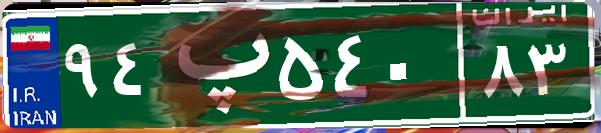0: (385, 28, 445, 110)
3: (525, 38, 570, 115)
4: (330, 28, 385, 110), (110, 28, 158, 105)
5: (273, 28, 330, 110)
8: (475, 38, 525, 113)
9: (57, 26, 110, 107)
پ: (158, 15, 273, 115)
